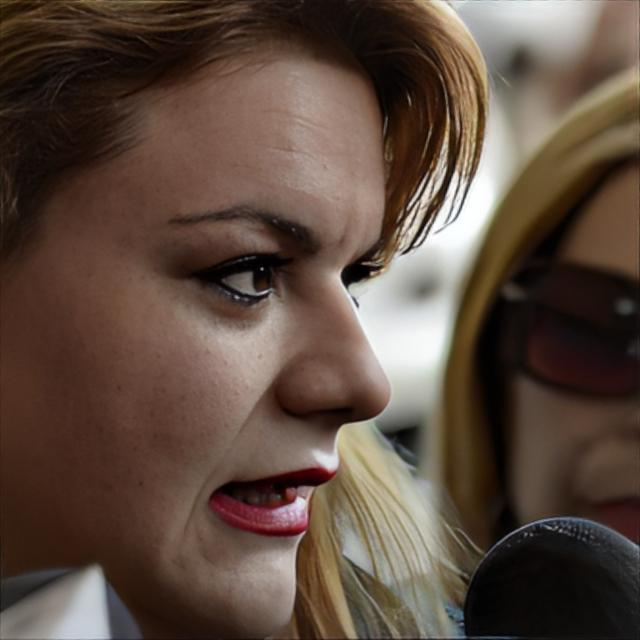sad: (11, 41, 394, 640)
